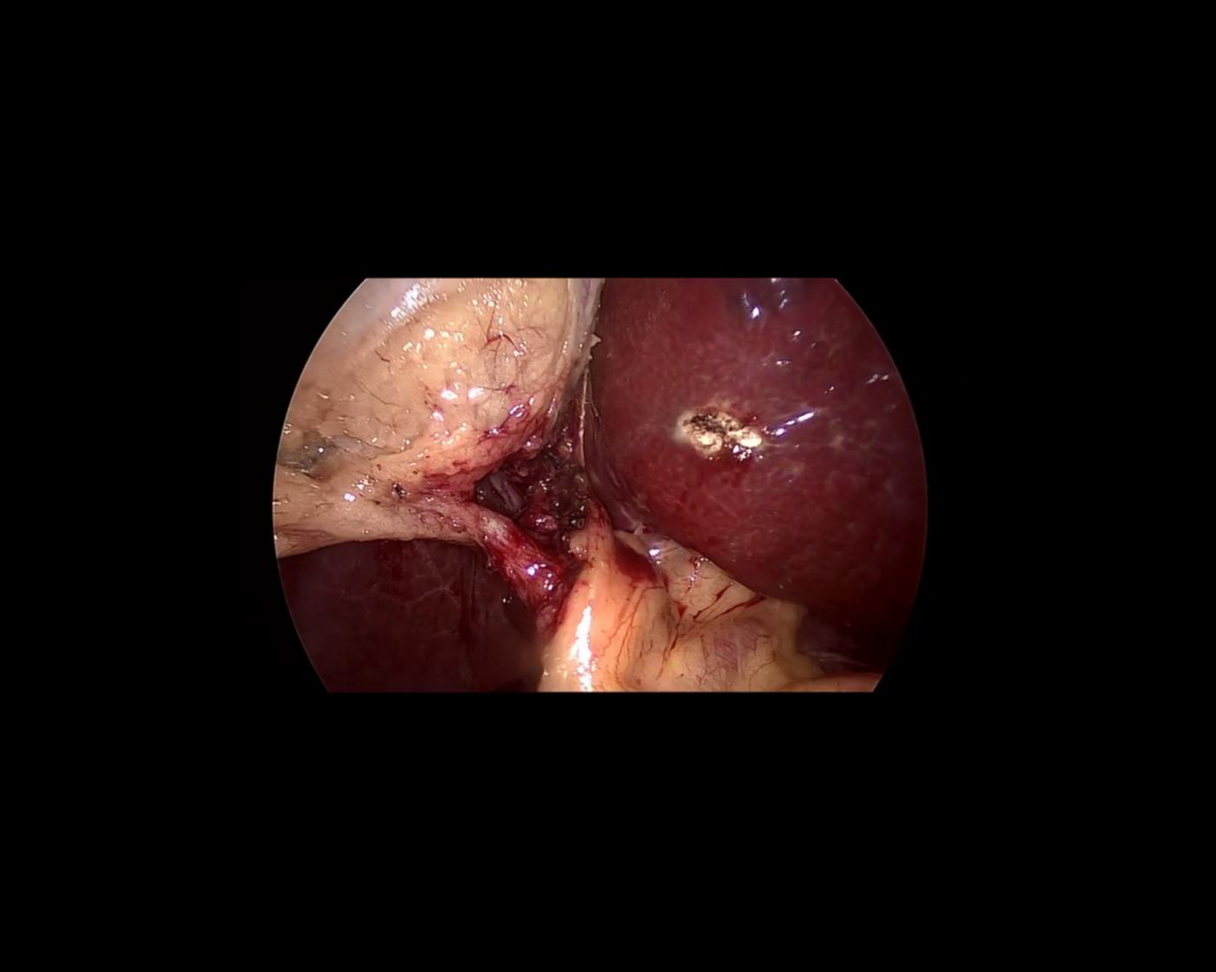Gallbladder: (276, 274, 605, 561)
Liver: (582, 277, 929, 634), (280, 536, 539, 696)
